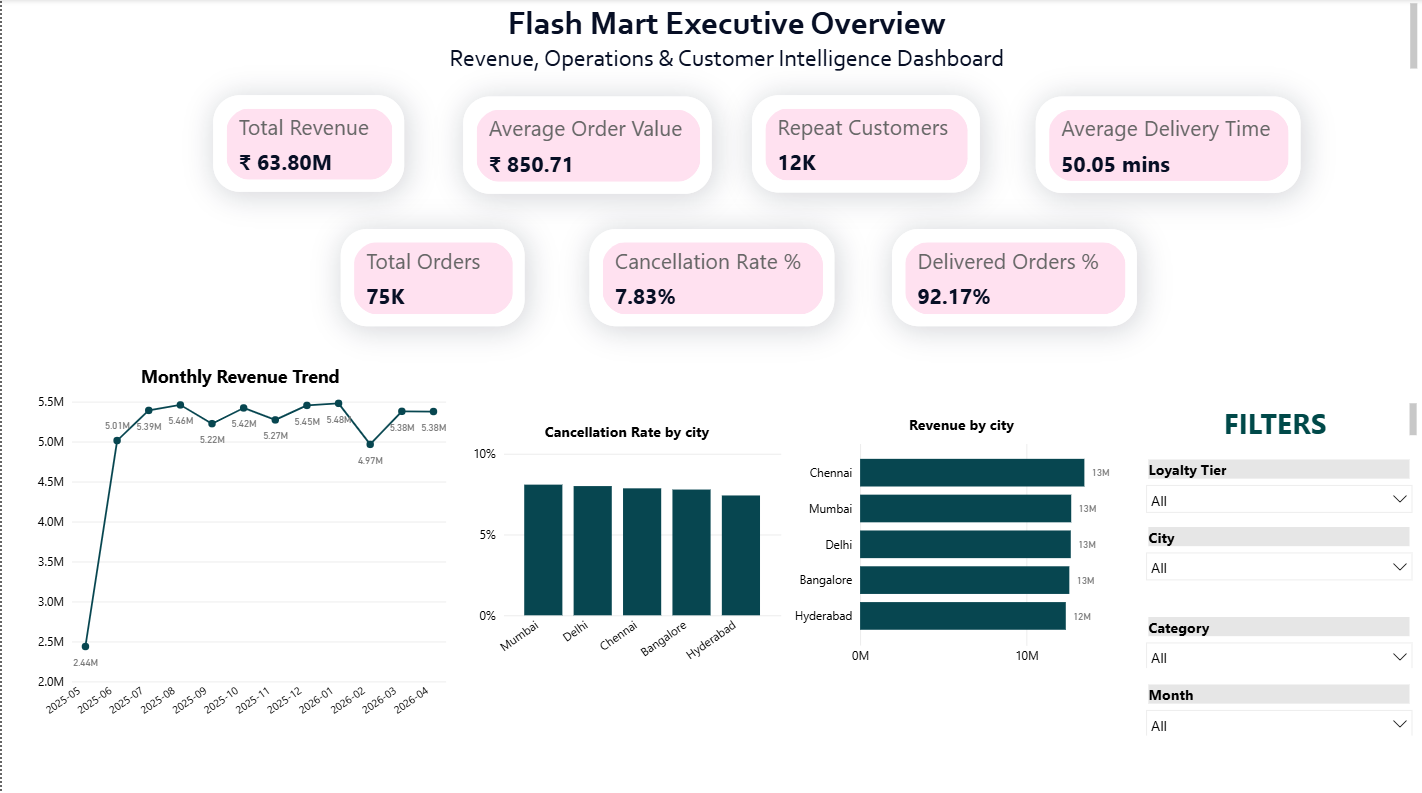

This screenshot's page, from the dashboard's own definition file:
{"tool":"powerbi","page":{"name":"Executive Overview","canvas":[1600,900],"ordinal":0},"visuals":[{"type":"cardVisual","fields":{"Data":["orders.Cancellation Rate %"]},"box":[662.2,259.2,276.1,109.9],"z":0},{"type":"cardVisual","fields":{"Data":["orders.Repeat Customers"]},"box":[845.3,108.5,256.4,109.9],"z":1000},{"type":"cardVisual","fields":{"Data":["orders.Average Delivery Time"]},"box":[1165.2,109.9,298.7,108.5],"z":2000},{"type":"cardVisual","fields":{"Data":["orders.Total Revenue"]},"box":[238.1,108.5,215.6,108.5],"z":3000},{"type":"cardVisual","fields":{"Data":["orders.Total Orders"]},"box":[381.8,259.2,207.1,109.9],"z":4000},{"type":"cardVisual","fields":{"Data":["orders.Average Order Value"]},"box":[519.9,109.9,280.4,109.9],"z":5000},{"type":"textbox","box":[0,0,1600.3,86],"z":6000},{"type":"lineChart","title":"Monthly Revenue Trend","fields":{"Category":["DateTable.YearMonth"],"Y":["orders.Total Revenue"]},"box":[31,411.4,474.8,417],"z":7000},{"type":"clusteredBarChart","title":" Revenue by city","fields":{"Category":["orders.city"],"Y":["orders.Total Revenue"]},"box":[883.4,467.8,395.9,291.6],"z":8000},{"type":"columnChart","title":"Cancellation Rate by city","fields":{"Category":["orders.city"],"Y":["orders.Cancellation Rate %"]},"box":[525.5,476.2,357.9,291.6],"z":9000},{"type":"slicer","fields":{"Values":["customers.city"]},"box":[1279.9,590.2,320.4,87.7],"z":10000},{"type":"slicer","fields":{"Values":["products.category"]},"box":[1279.9,691.4,320.4,62.4],"z":11000},{"type":"slicer","fields":{"Values":["customers.loyalty_tier"]},"box":[1279.9,514.3,320.4,75.9],"z":11001},{"type":"slicer","fields":{"Values":["DateTable.Month"]},"box":[1279.9,767.3,320.4,62.4],"z":11002},{"type":"textbox","box":[1279.9,450.3,320.4,48.9],"z":11003},{"type":"cardVisual","fields":{"Data":["orders.Delivered Orders %"]},"box":[1003.1,259.2,276.1,109.9],"z":11004}]}

Visuals, with their boxes in screenshot pixels (x1, y1, x2, y2), scaled from the page's 1600x900 canvas onto the 1422x793 screenshot:
cardVisual - orders.Cancellation Rate %: <box>589,228,834,325</box>
cardVisual - orders.Repeat Customers: <box>751,96,979,192</box>
cardVisual - orders.Average Delivery Time: <box>1036,97,1301,192</box>
cardVisual - orders.Total Revenue: <box>212,96,403,191</box>
cardVisual - orders.Total Orders: <box>339,228,523,325</box>
cardVisual - orders.Average Order Value: <box>462,97,711,194</box>
textbox: <box>0,0,1421,76</box>
"Monthly Revenue Trend" lineChart: <box>28,362,450,730</box>
" Revenue by city" clusteredBarChart: <box>785,412,1137,669</box>
"Cancellation Rate by city" columnChart: <box>467,420,785,677</box>
slicer - customers.city: <box>1138,520,1421,597</box>
slicer - products.category: <box>1138,609,1421,664</box>
slicer - customers.loyalty_tier: <box>1138,453,1421,520</box>
slicer - DateTable.Month: <box>1138,676,1421,731</box>
textbox: <box>1138,397,1421,440</box>
cardVisual - orders.Delivered Orders %: <box>892,228,1137,325</box>
